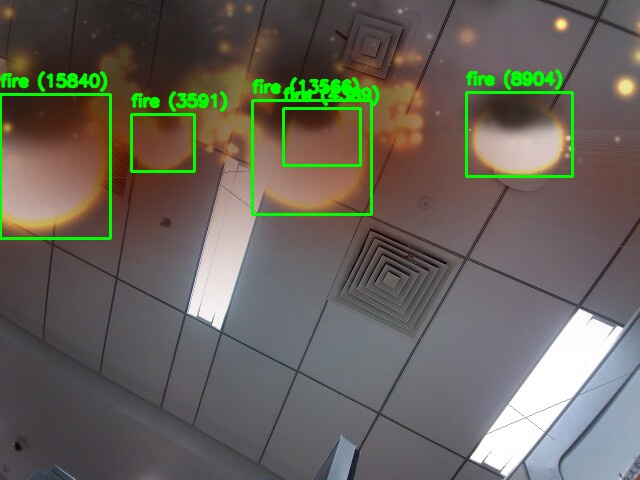fire: (0, 94, 110, 238), (252, 100, 371, 214), (466, 92, 572, 176), (283, 108, 360, 165), (131, 114, 194, 171)
